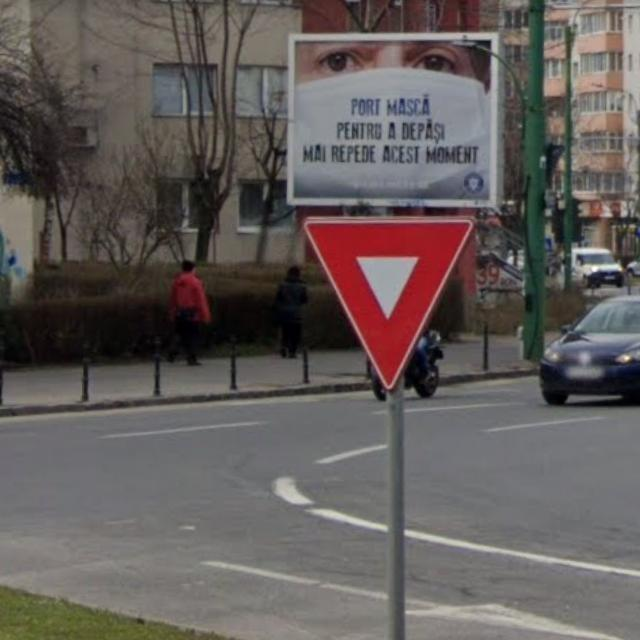prio_give_way: (298, 214, 476, 394)
